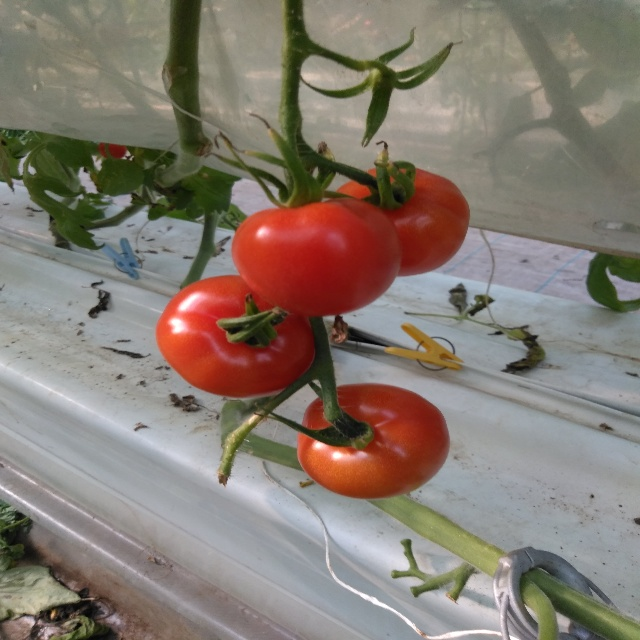l_fully_ripened: (231, 197, 401, 318), (154, 275, 316, 398), (296, 383, 451, 499), (332, 164, 470, 277)
